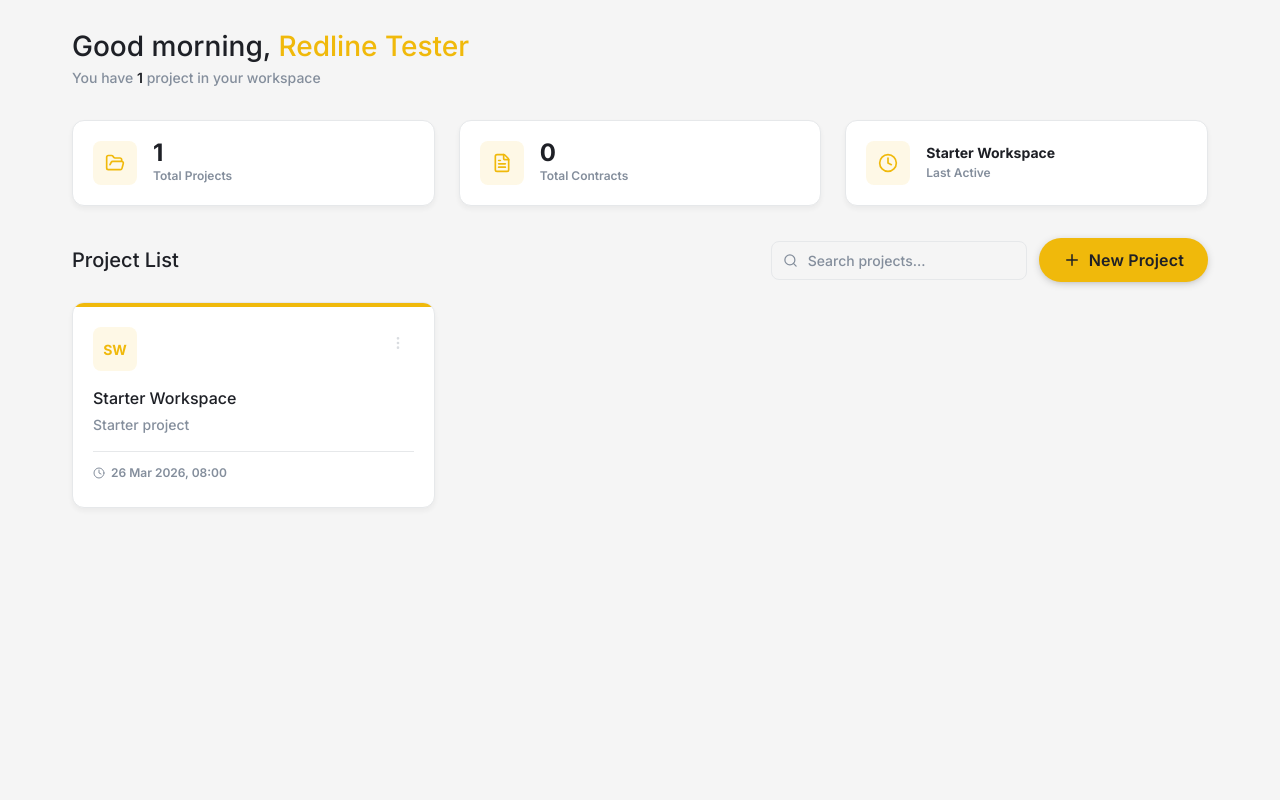
Test: ProjectListPage › updates a project from the project list and refreshes the live inventory
The width and height of the screenshot is (1280, 800).
expect the heading "Project List" is shown: met, box left=72, top=248, right=179, bottom=272
expect the link "Starter Workspace" is shown: met, box left=73, top=307, right=434, bottom=507
Click the button named "project actions for starter workspace" at (398, 343), box left=382, top=327, right=414, bottom=359
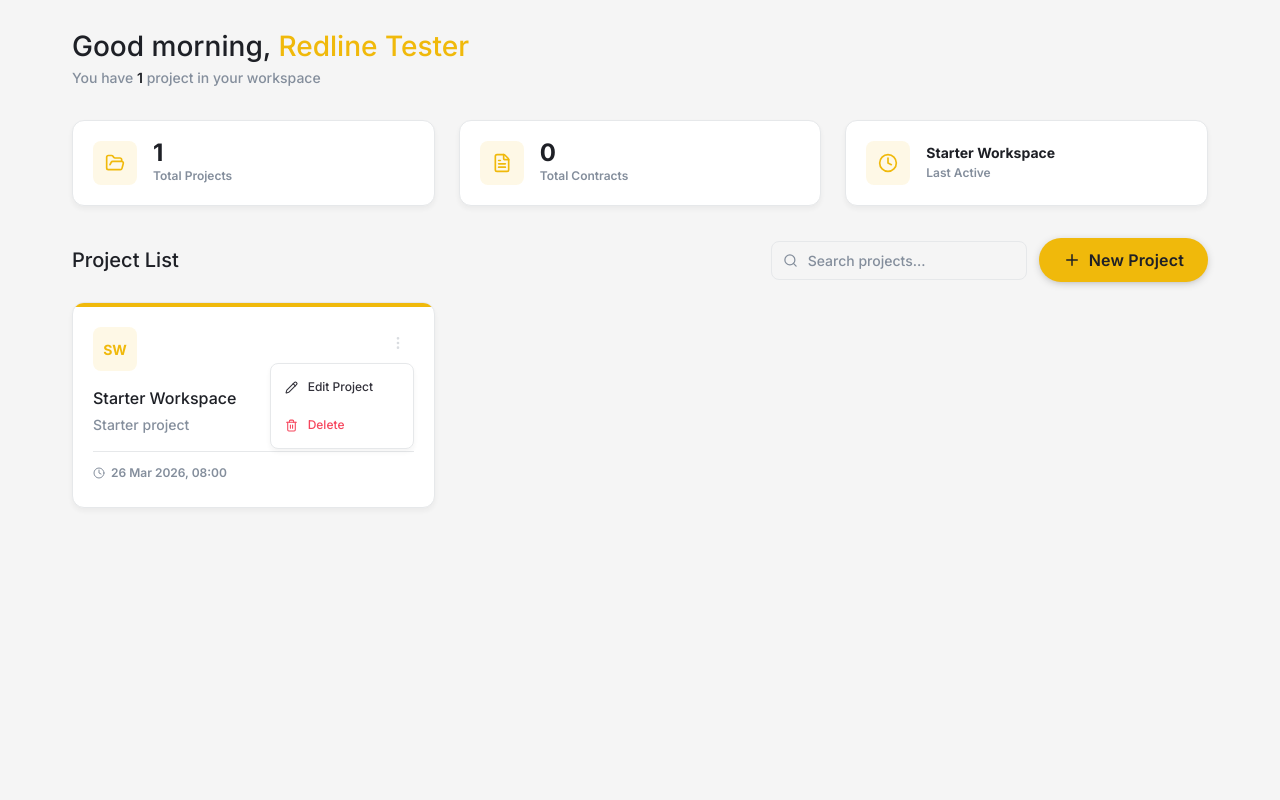
Click the button with aria-label "edit project starter workspace" at (342, 387), box left=271, top=368, right=413, bottom=406
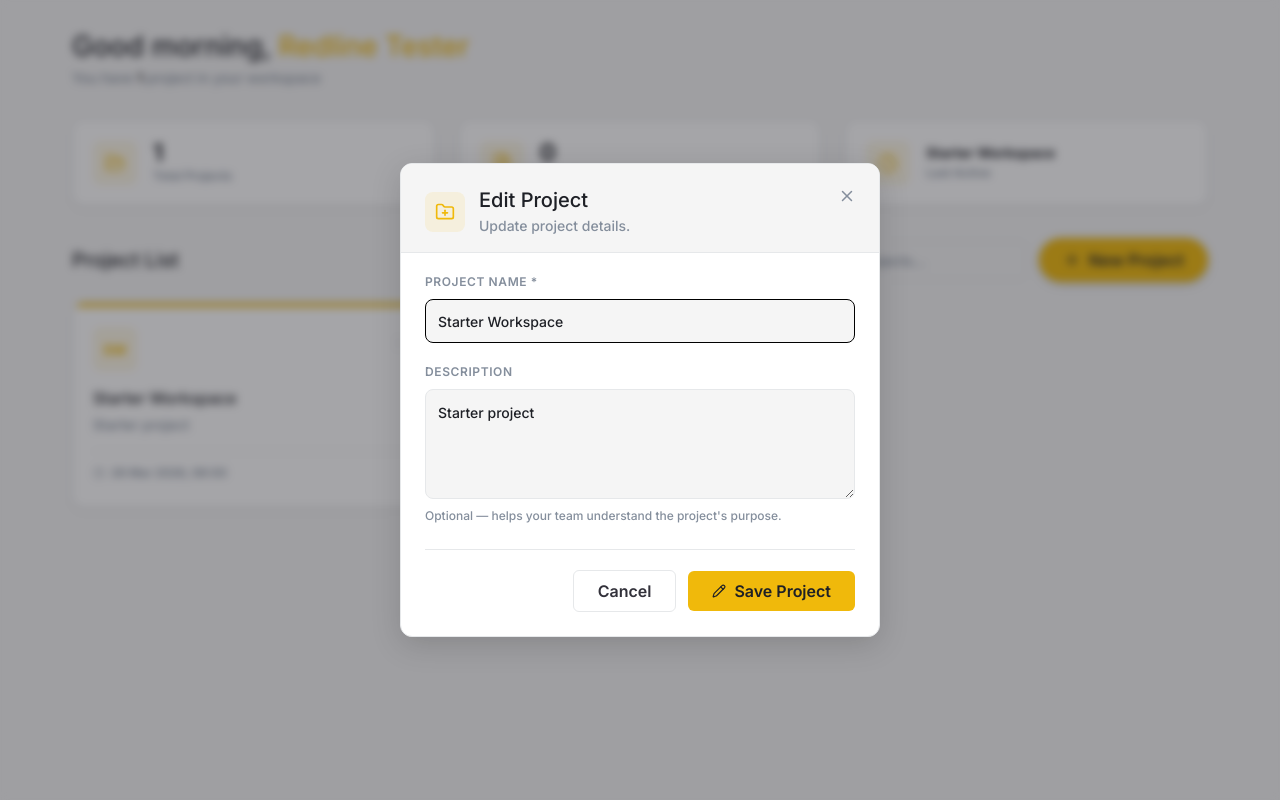
Replace the text in the field labelled "Project name *" with "Updated Workspace" at (640, 321), box left=425, top=299, right=855, bottom=343
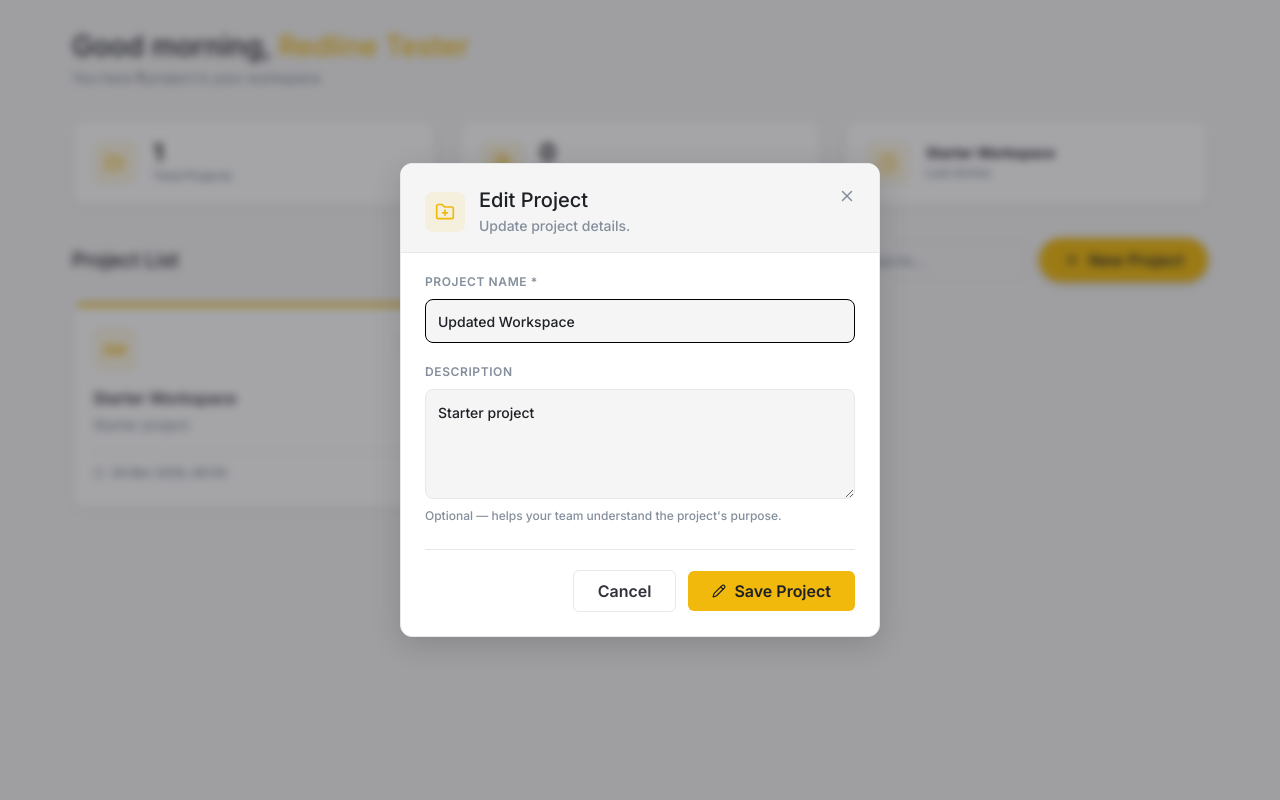
Replace the text in the text box labelled "Description" with "Updated from project list" at (640, 444), box left=425, top=389, right=855, bottom=499
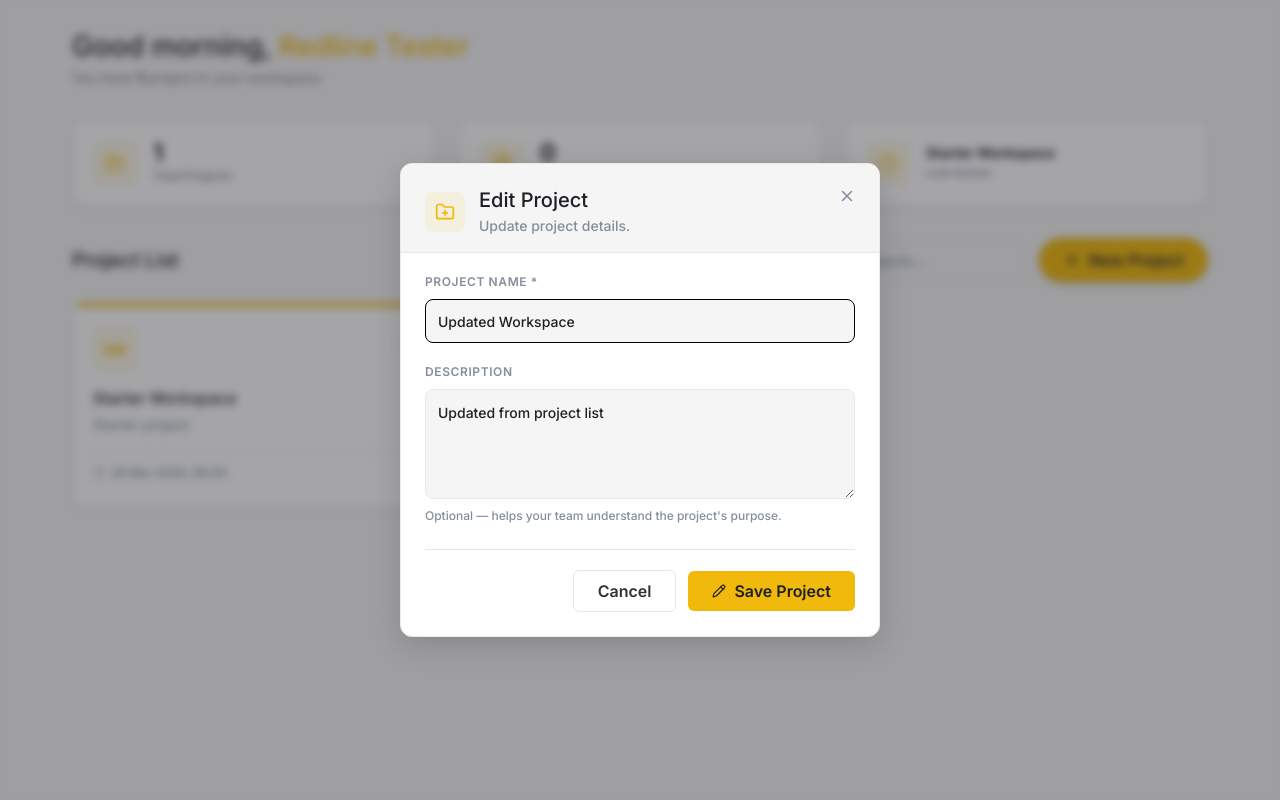
Submit button says "Save Project"
Click the button "Save Project" at (772, 591), box left=688, top=571, right=855, bottom=611
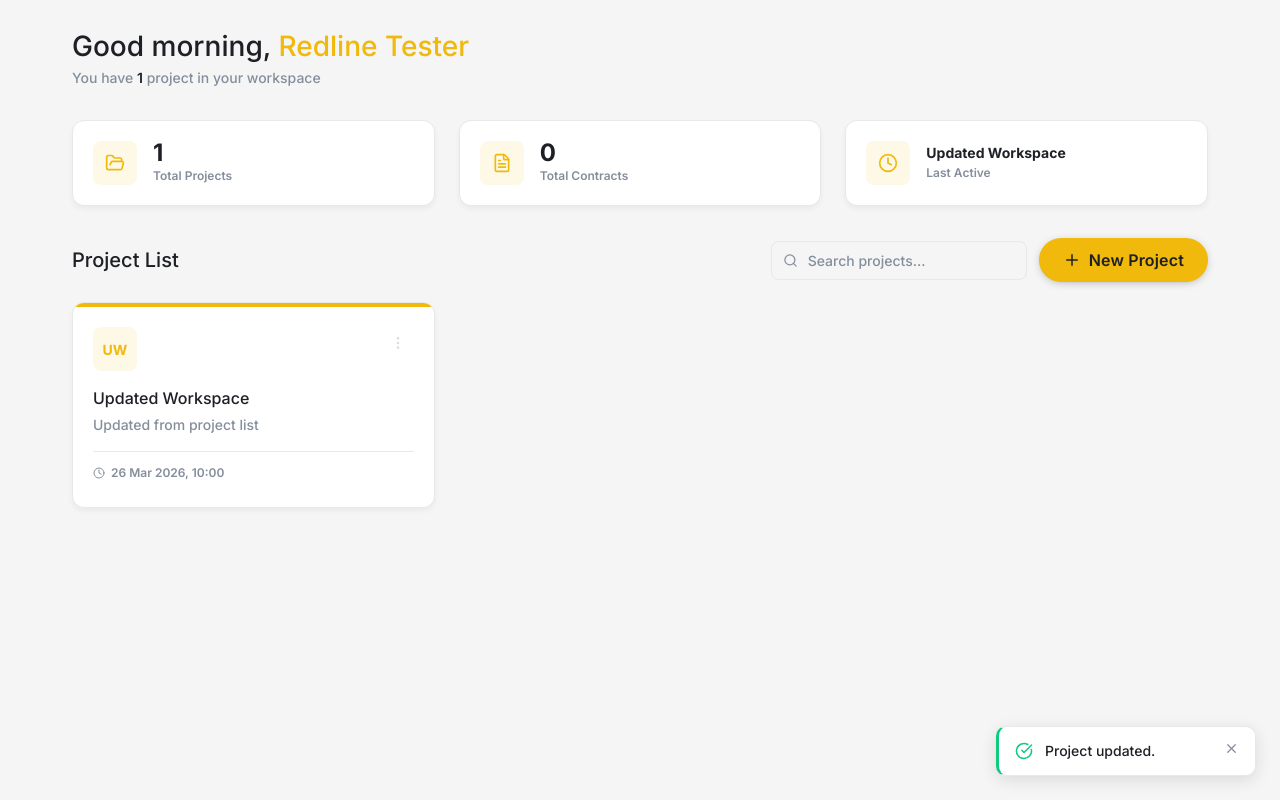
expect the link "Updated Workspace" is shown: met, box left=73, top=307, right=434, bottom=507
expect the text "Updated from project list" is shown: met, box left=93, top=416, right=259, bottom=433
